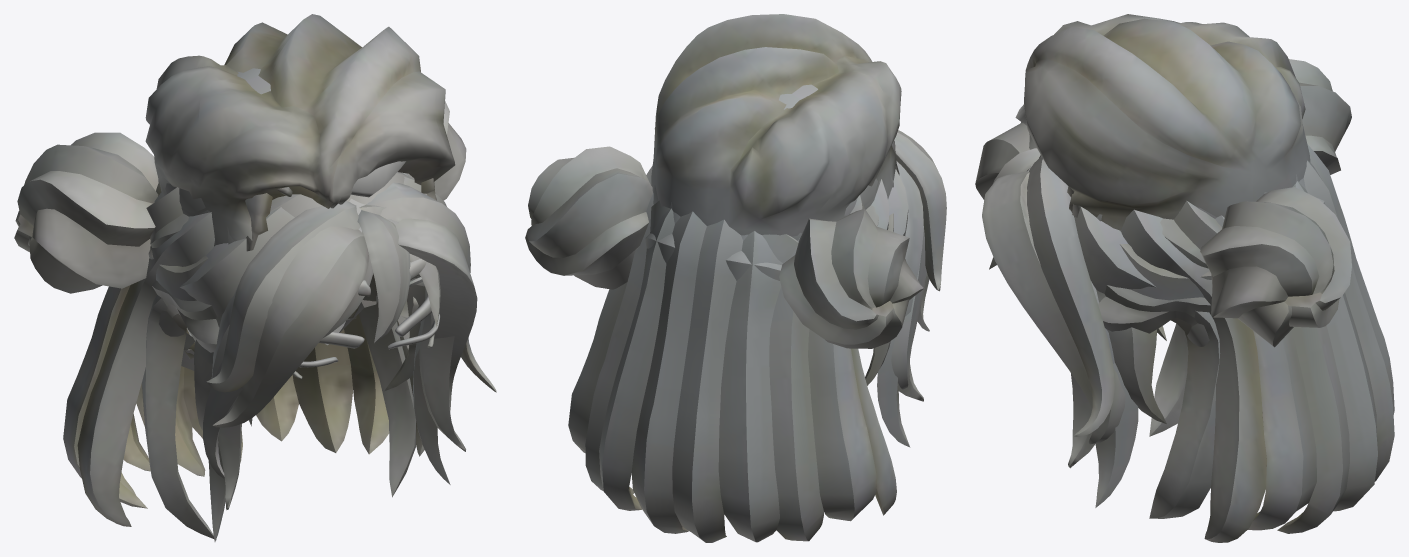
The model's file is hair.glb.
The picture shows the model from 3 angles, left to right: view 1: azimuth 30°, elevation 25°; view 2: azimuth 150°, elevation 25°; view 3: azimuth 270°, elevation 25°; orthographic projection. The views are drawn at different scales.
Visible parts, largest first — view 1: Hair_Long, Hair_SimpleParted, Hair_Buns, Hair_Buzzed, Eyebrows_Female; view 2: Hair_Long, Hair_SimpleParted, Hair_Buns, Hair_Buzzed; view 3: Hair_Long, Hair_SimpleParted, Hair_Buns.
Part boxes in pixels (<box>): Hair_Long: <box>63,173,496,539</box>; Hair_SimpleParted: <box>145,14,455,244</box>; Hair_Buns: <box>14,101,466,541</box>; Hair_Buzzed: <box>161,68,436,251</box>; Eyebrows_Female: <box>293,295,440,378</box>; Hair_Long: <box>568,130,946,542</box>; Hair_SimpleParted: <box>651,14,901,236</box>; Hair_Buns: <box>525,146,923,447</box>; Hair_Buzzed: <box>653,84,899,240</box>; Hair_Long: <box>975,122,1394,542</box>; Hair_SimpleParted: <box>1024,14,1310,230</box>; Hair_Buns: <box>989,59,1351,507</box>.
Bounding box in the file's own units: 0.3015 × 0.3389 × 0.2704.
Materials: 2 (2 with a texture image).
